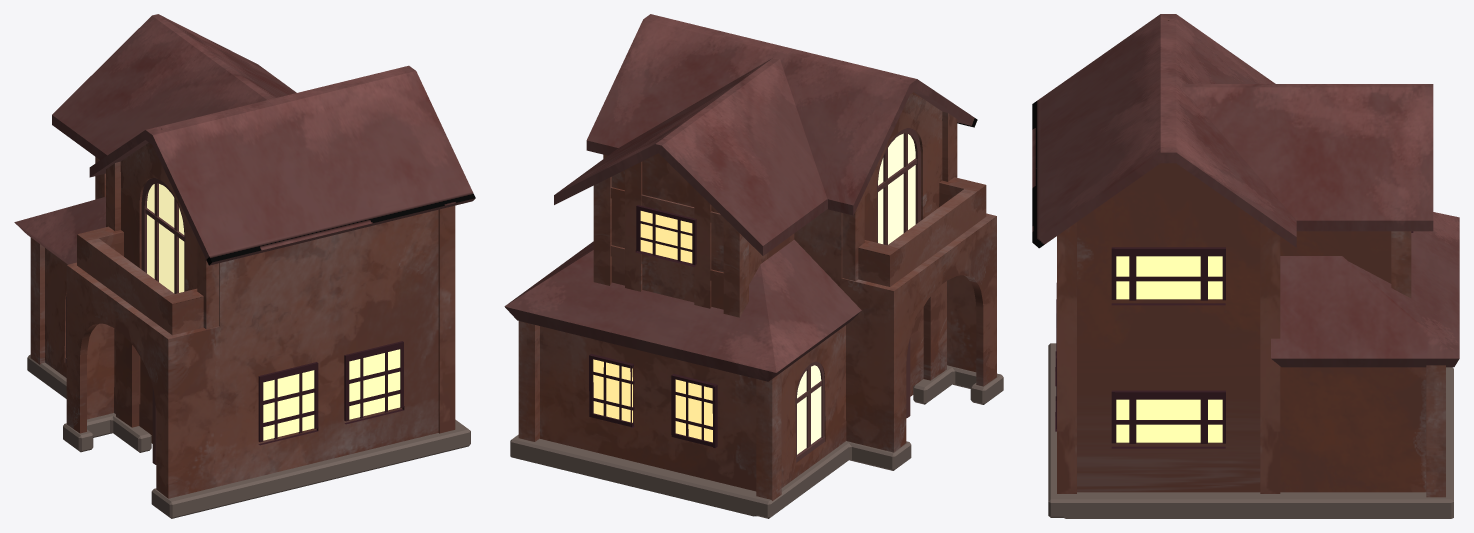
The model's file is house_brick_2f_1x1.glb.
3 views of the same model, side by side, from view 1: azimuth 30°, elevation 25°; view 2: azimuth 150°, elevation 25°; view 3: azimuth 270°, elevation 25° (orthographic). The views are drawn at different scales.
Parts seen in each view (by area): view 1: 2F1to1; view 2: 2F1to1; view 3: 2F1to1.
Part boxes in pixels (bbox=[...]): 2F1to1: bbox=[14, 14, 475, 518]; 2F1to1: bbox=[504, 14, 1003, 518]; 2F1to1: bbox=[1032, 14, 1459, 518].
Bounding box in the file's own units: 8.41 × 9.32 × 9.53.
6 materials, 2 textured.
